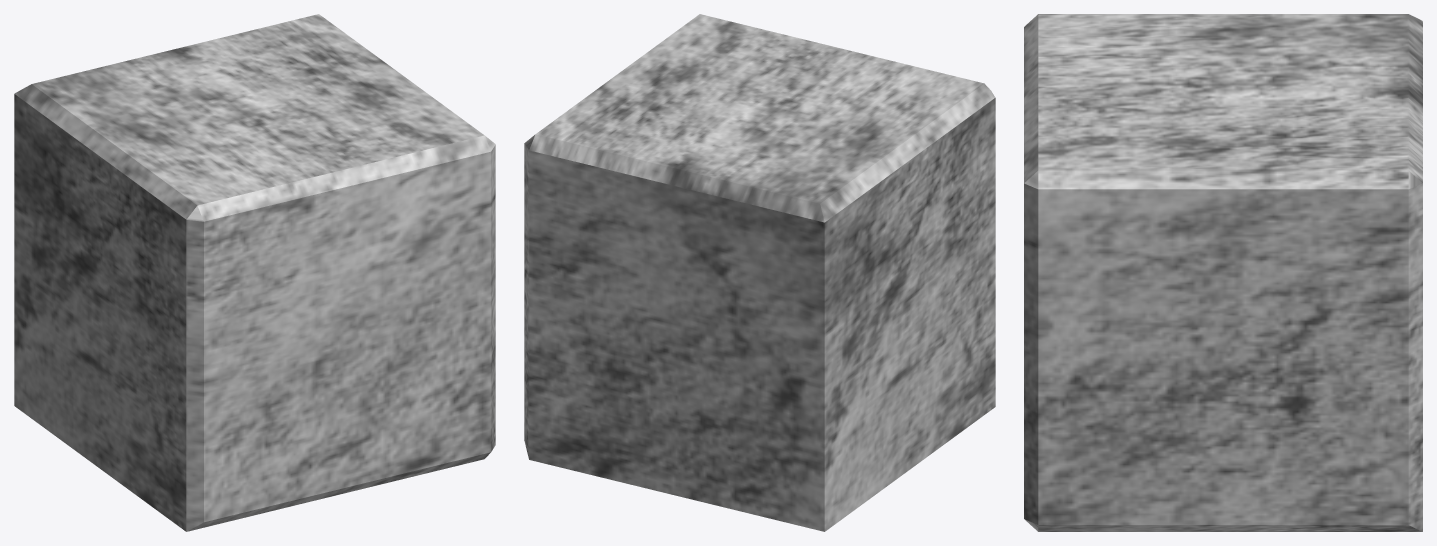
File: Pedraparaempurrar.fbx
3 renders of one model, left to right at view 1: azimuth 30°, elevation 25°; view 2: azimuth 150°, elevation 25°; view 3: azimuth 270°, elevation 25°, orthographic. The views are drawn at different scales.
Visible parts, largest first — view 1: Cube; view 2: Cube; view 3: Cube.
Boxes of the visible parts, left/top/right/bottom form: Cube: left=14, top=14, right=495, bottom=531; Cube: left=524, top=14, right=995, bottom=531; Cube: left=1024, top=14, right=1422, bottom=531.
Size of the model in its own units: 247 by 247 by 247.
Materials: 1 (1 with a texture image).
